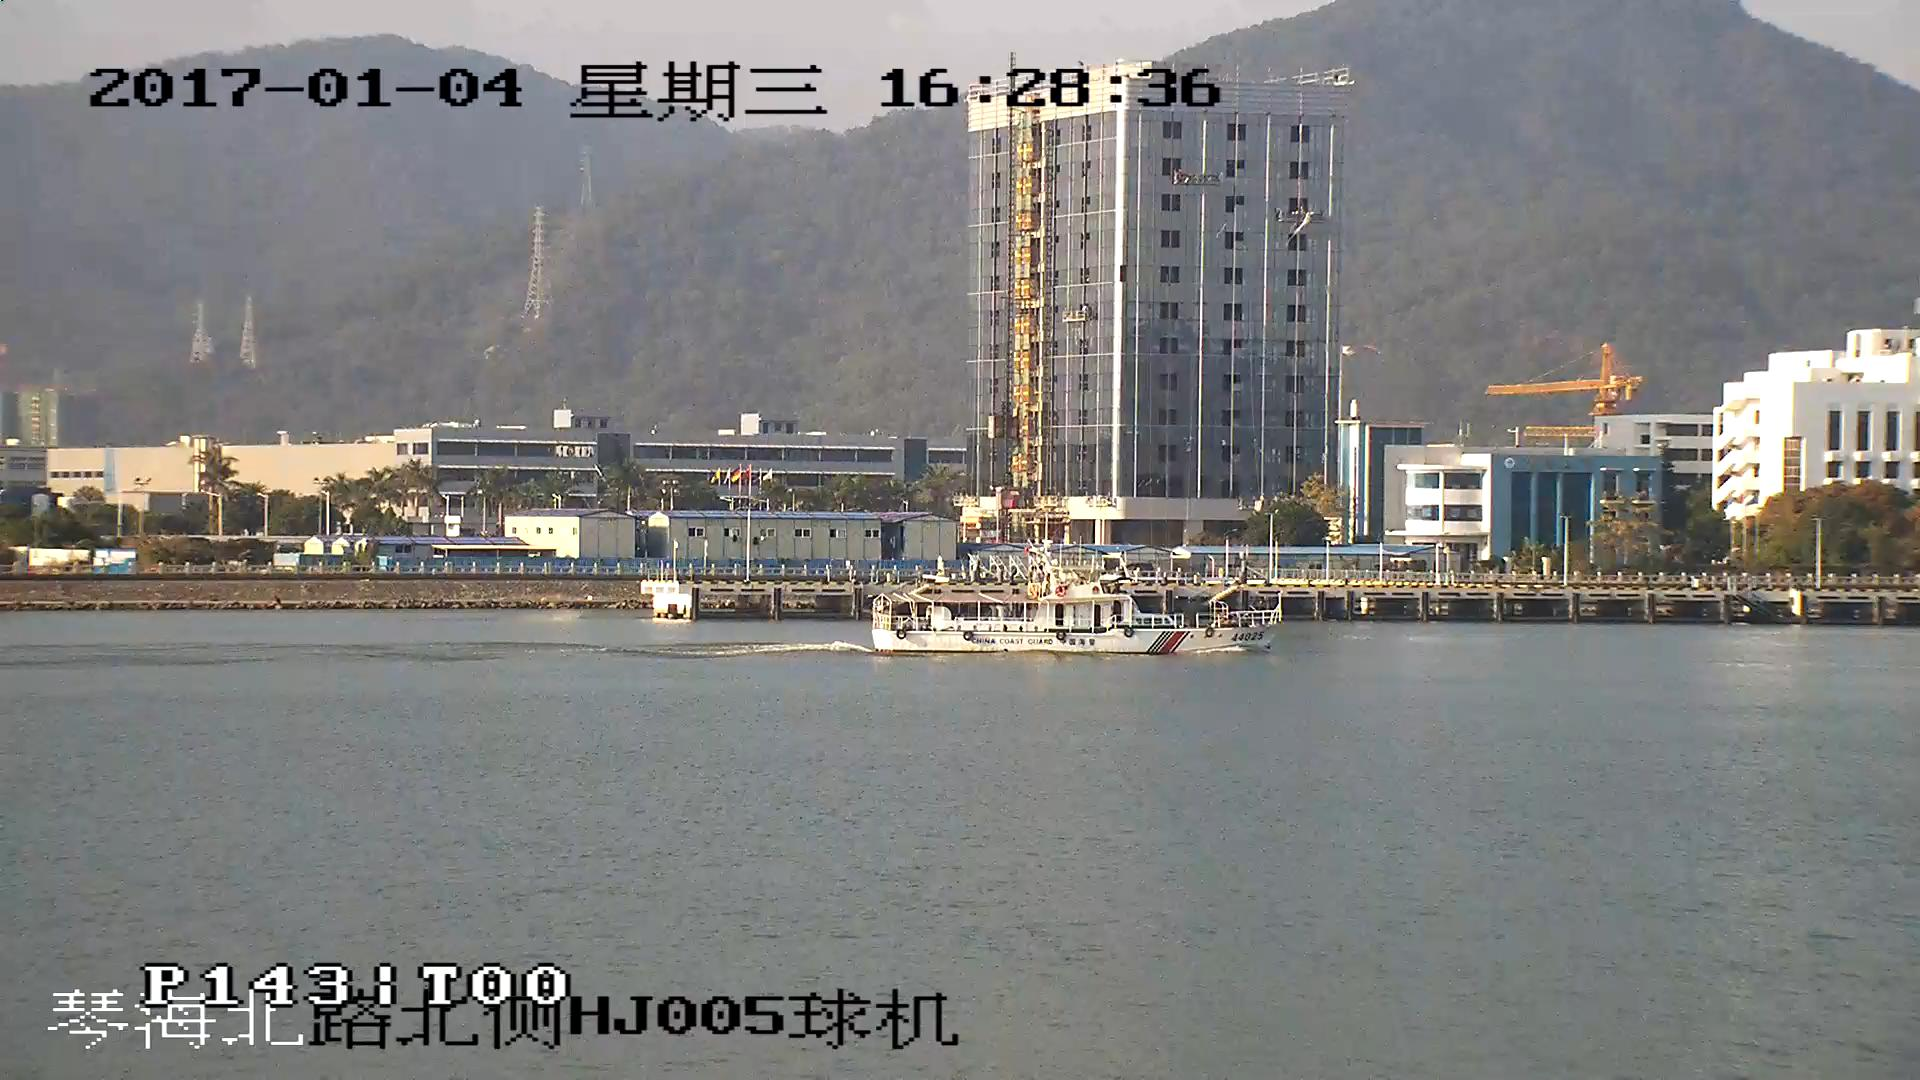passenger ship: (870, 550, 1278, 658)
